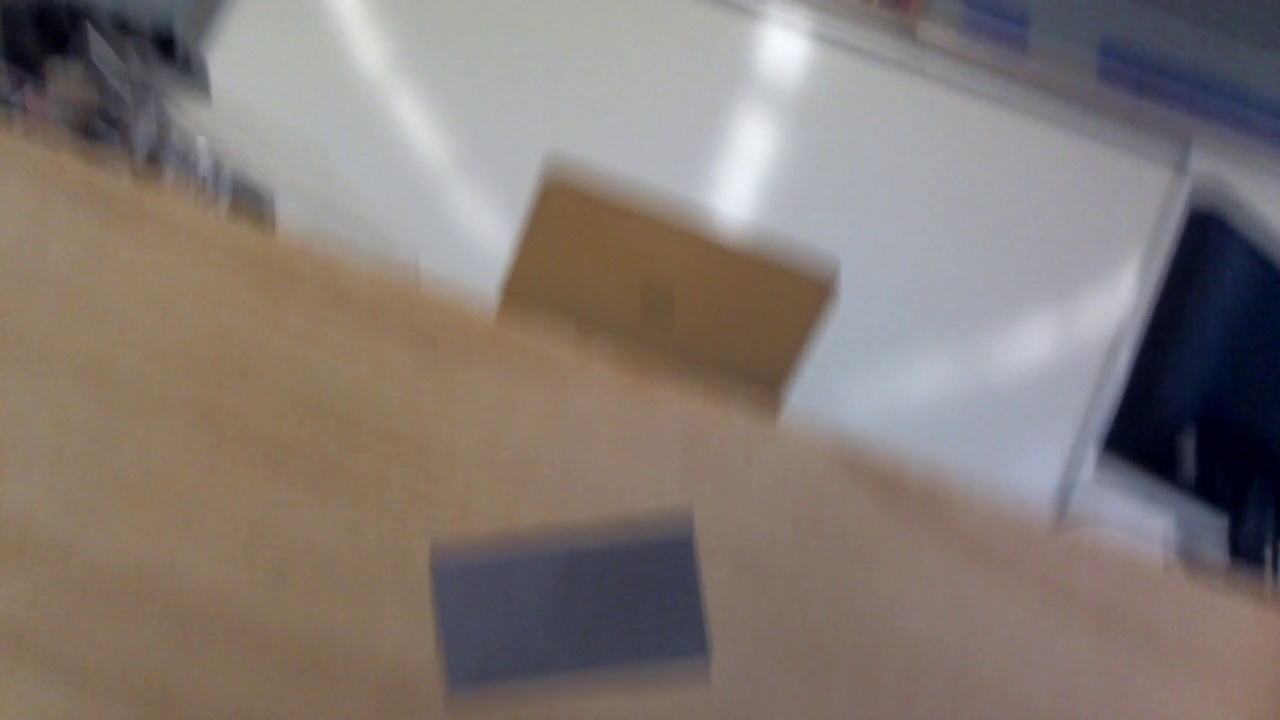Tape: (433, 514, 715, 692)
